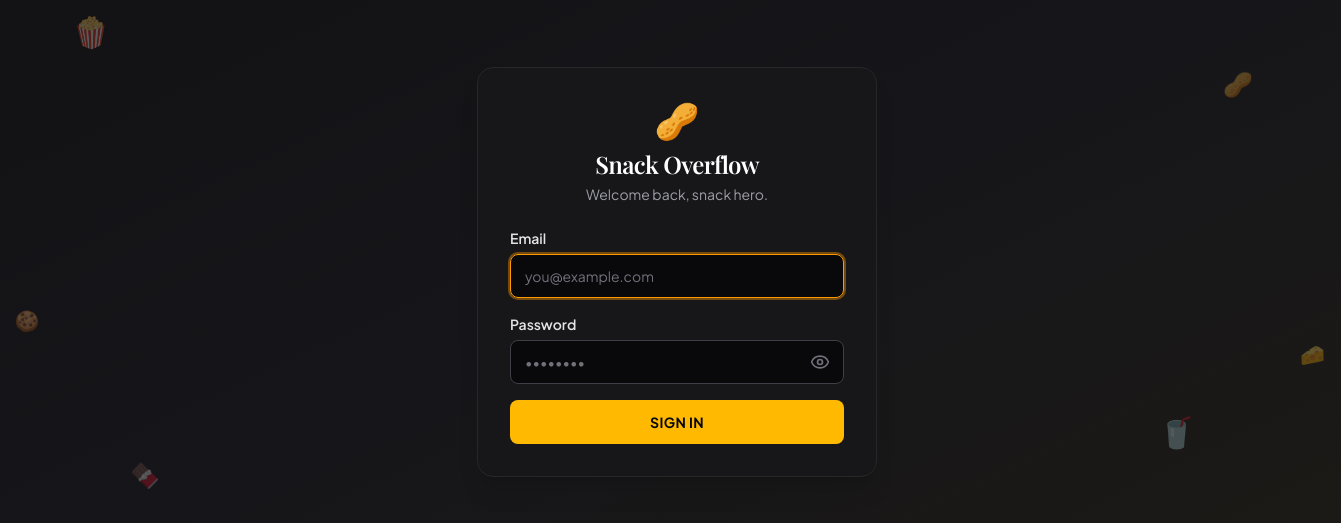
Test: LoginPage › shows the generic message for network failures
The width and height of the screenshot is (1341, 523).
Type "member@bpf.com" into the field labelled "Email".
click(677, 276); type("member@bpf.com")  # box x1=510 y1=254 x2=844 y2=298
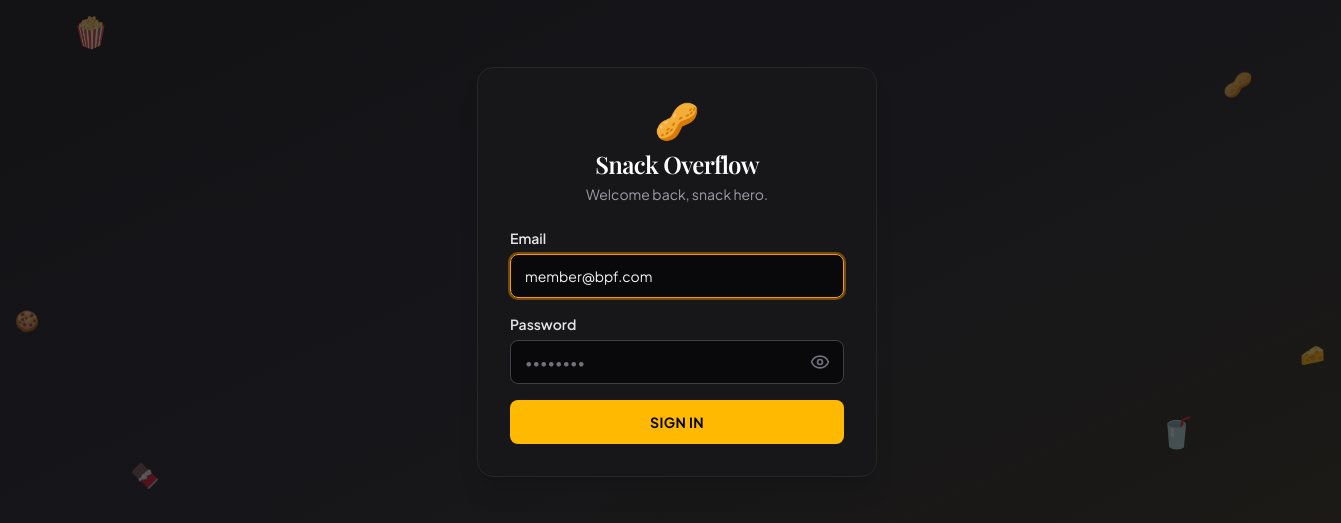
Type "Member@123" into the password field labelled "Password".
click(677, 362); type("Member@123")  # box x1=510 y1=340 x2=844 y2=384
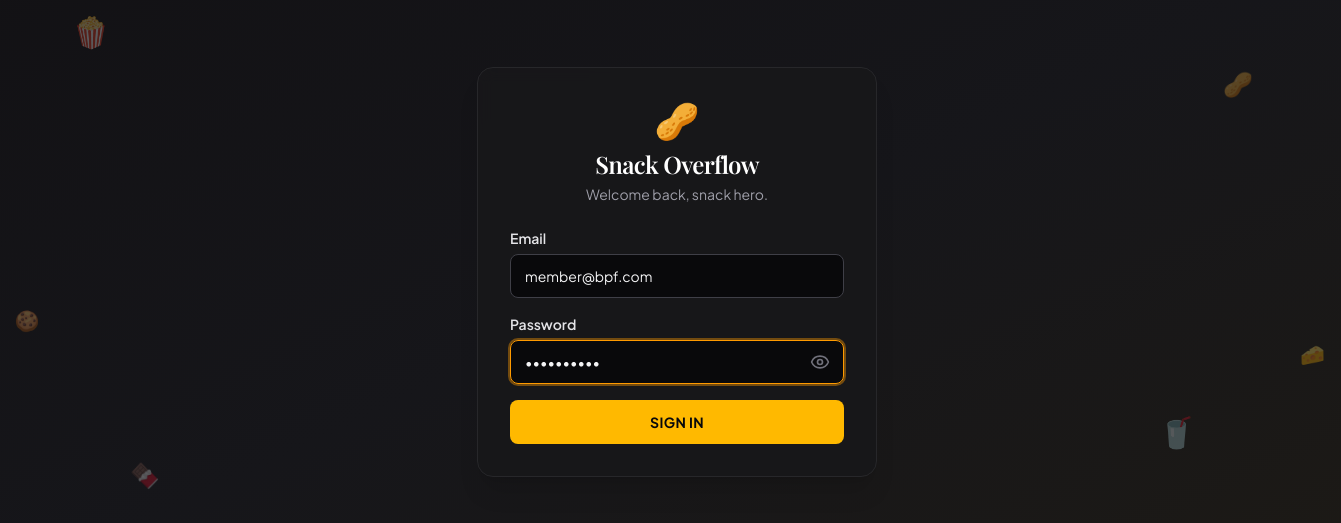
Click the button "Sign in".
click(677, 422)  # box x1=510 y1=400 x2=844 y2=444
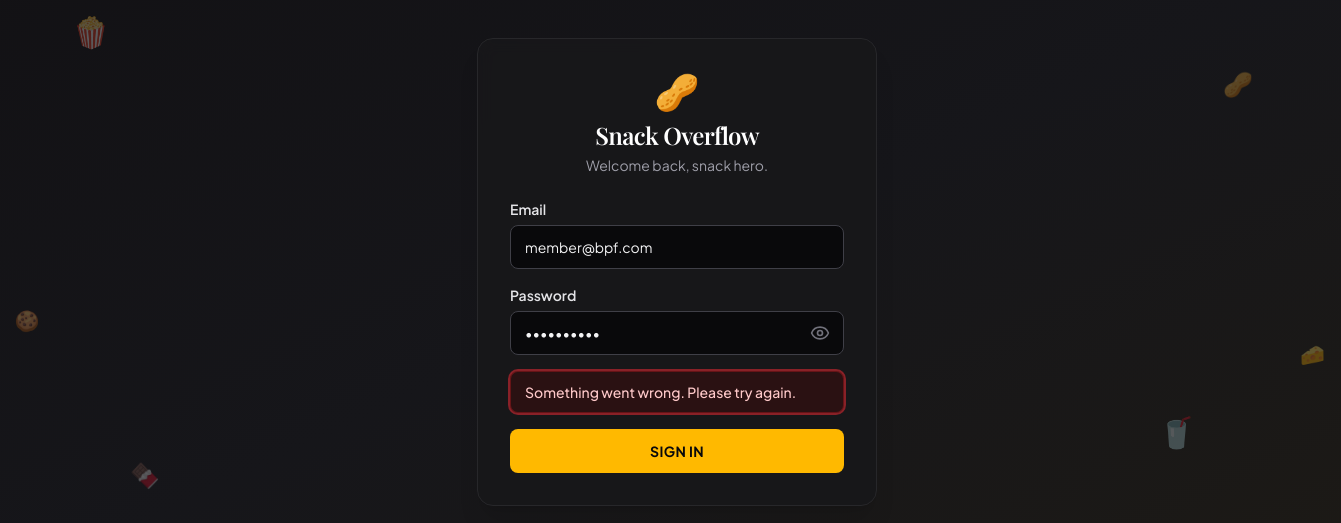
Now the message reads "Something went wrong. Please try again.", box x1=525 y1=383 x2=796 y2=401
